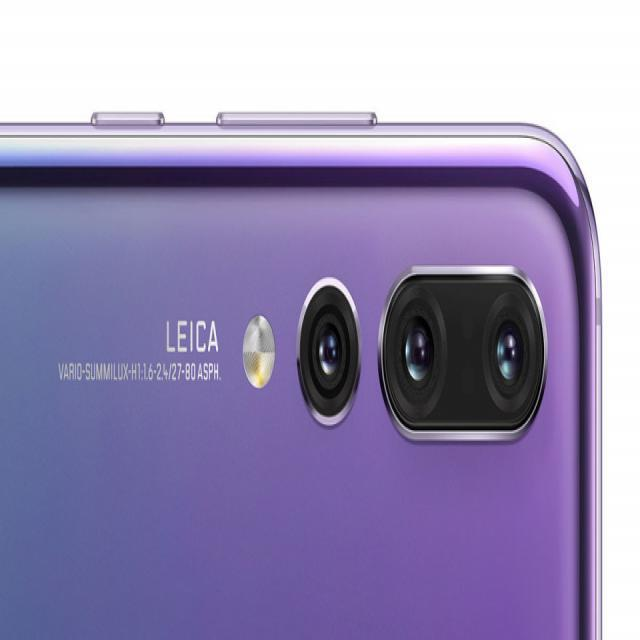lens: (294, 257, 550, 453)
phone: (0, 116, 607, 639)
